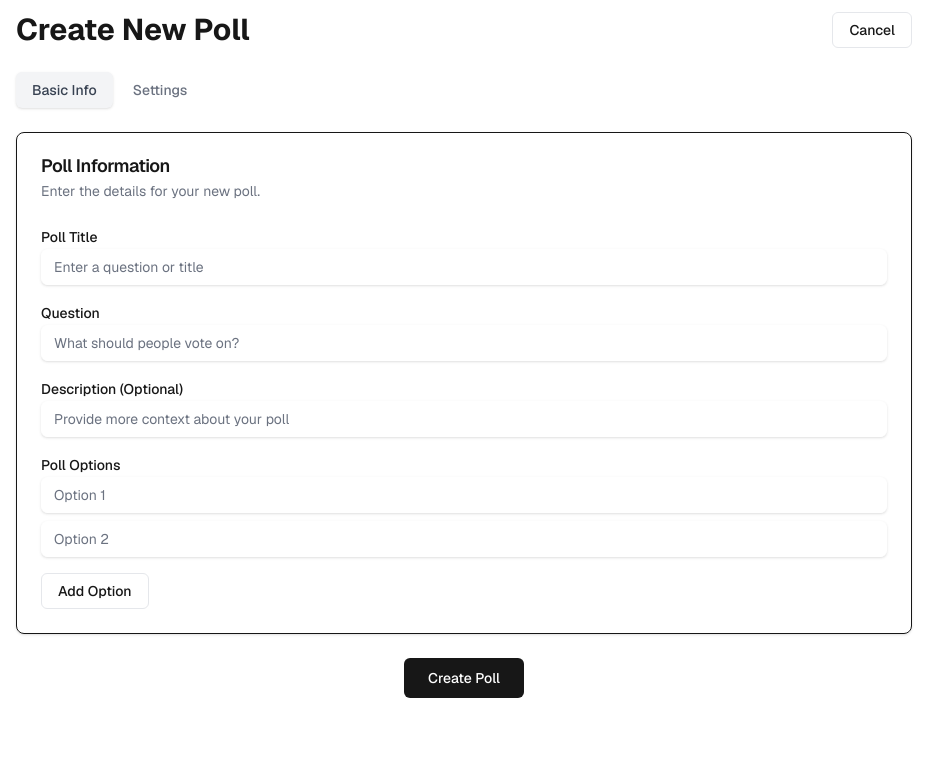
PollForm › allows adding a new poll option
Click the button "Add Option". click: {"x": 95, "y": 591}
box: x1=41 y1=573 x2=149 y2=609
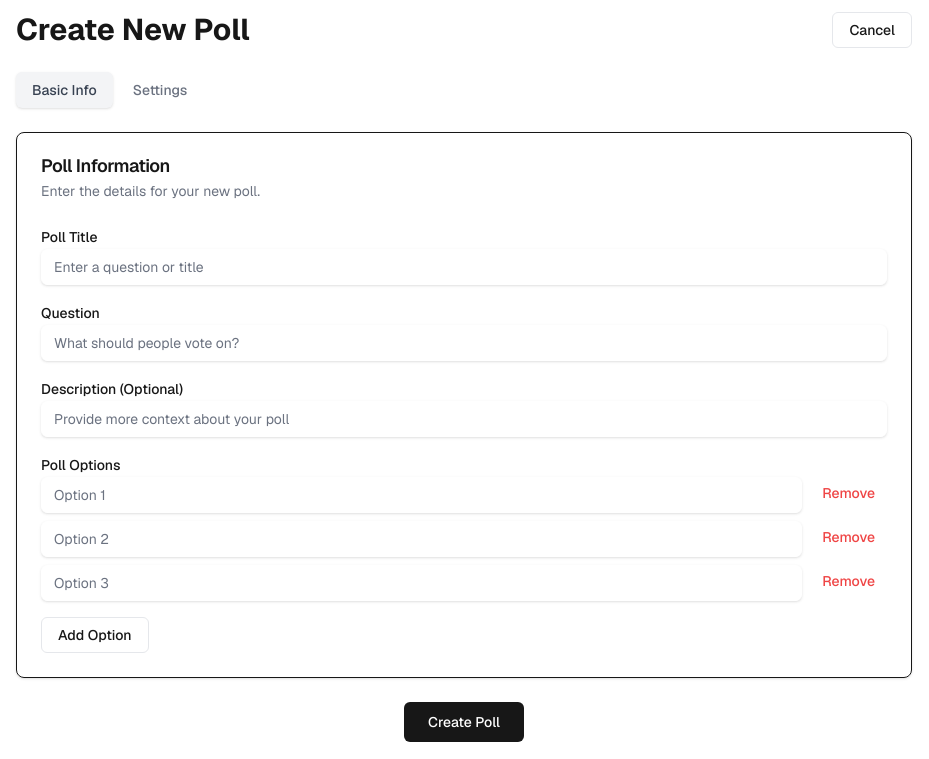
Check: the number of fields with placeholder "Option 1" is 3, box x1=41 y1=477 x2=802 y2=513; x1=41 y1=521 x2=802 y2=557; x1=41 y1=565 x2=802 y2=601
